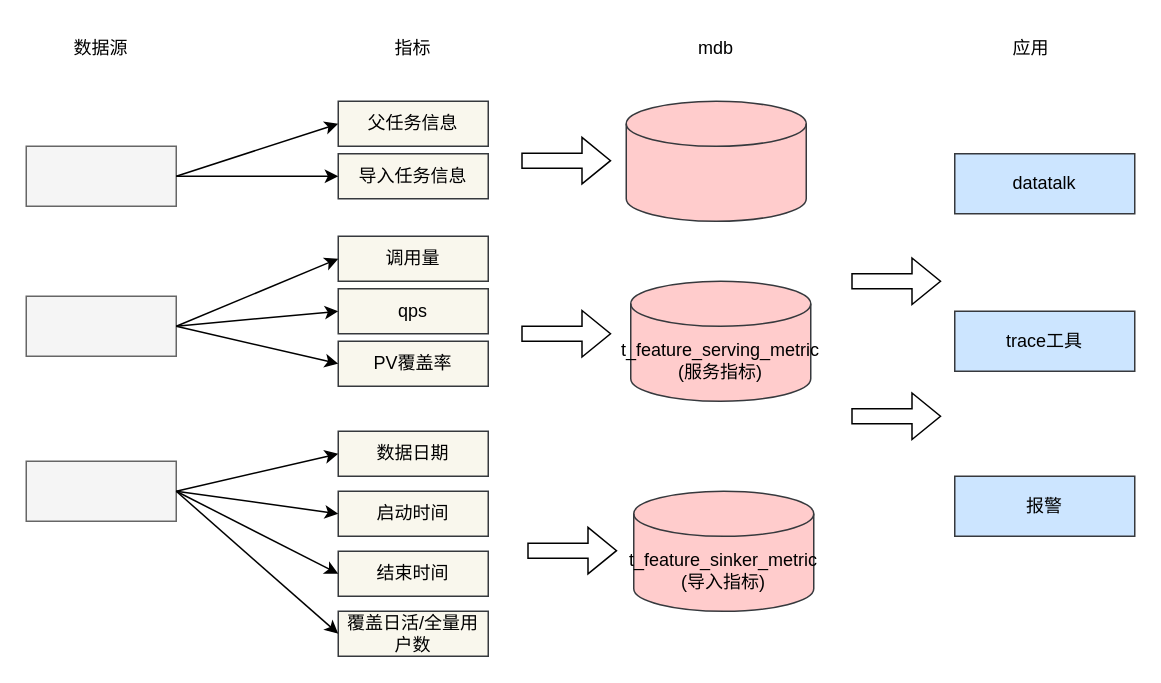
This 1161x683 diagram has some shape labels left out. The centre of each missing label's shape, as x and y in pixels:
"007 API" belongs at (100,325).
"Spark Accumulator" belongs at (100,490).
"t_feature_task_metric (task->画像)" belongs at (715,160).
"US API" belongs at (100,175).
